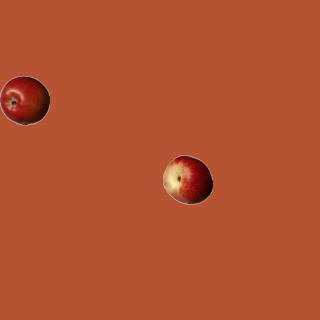Apple Braeburn: (0, 75, 49, 125)
Nectarine: (162, 154, 212, 204)
